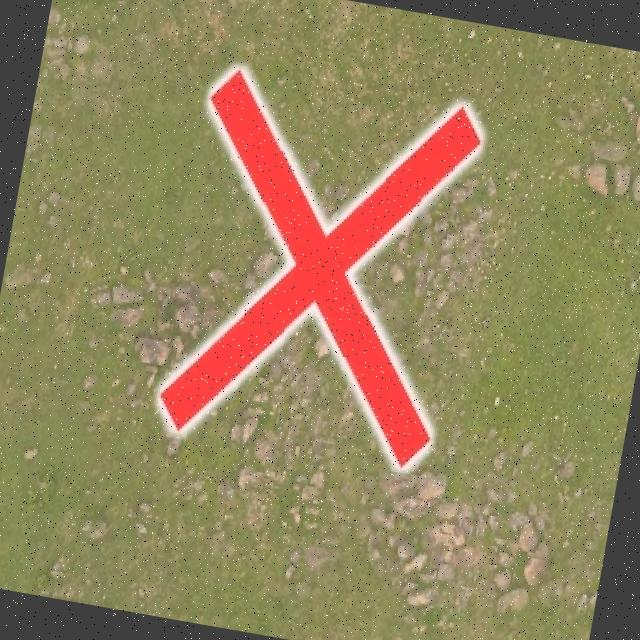x_marker: (152, 62, 486, 472)
